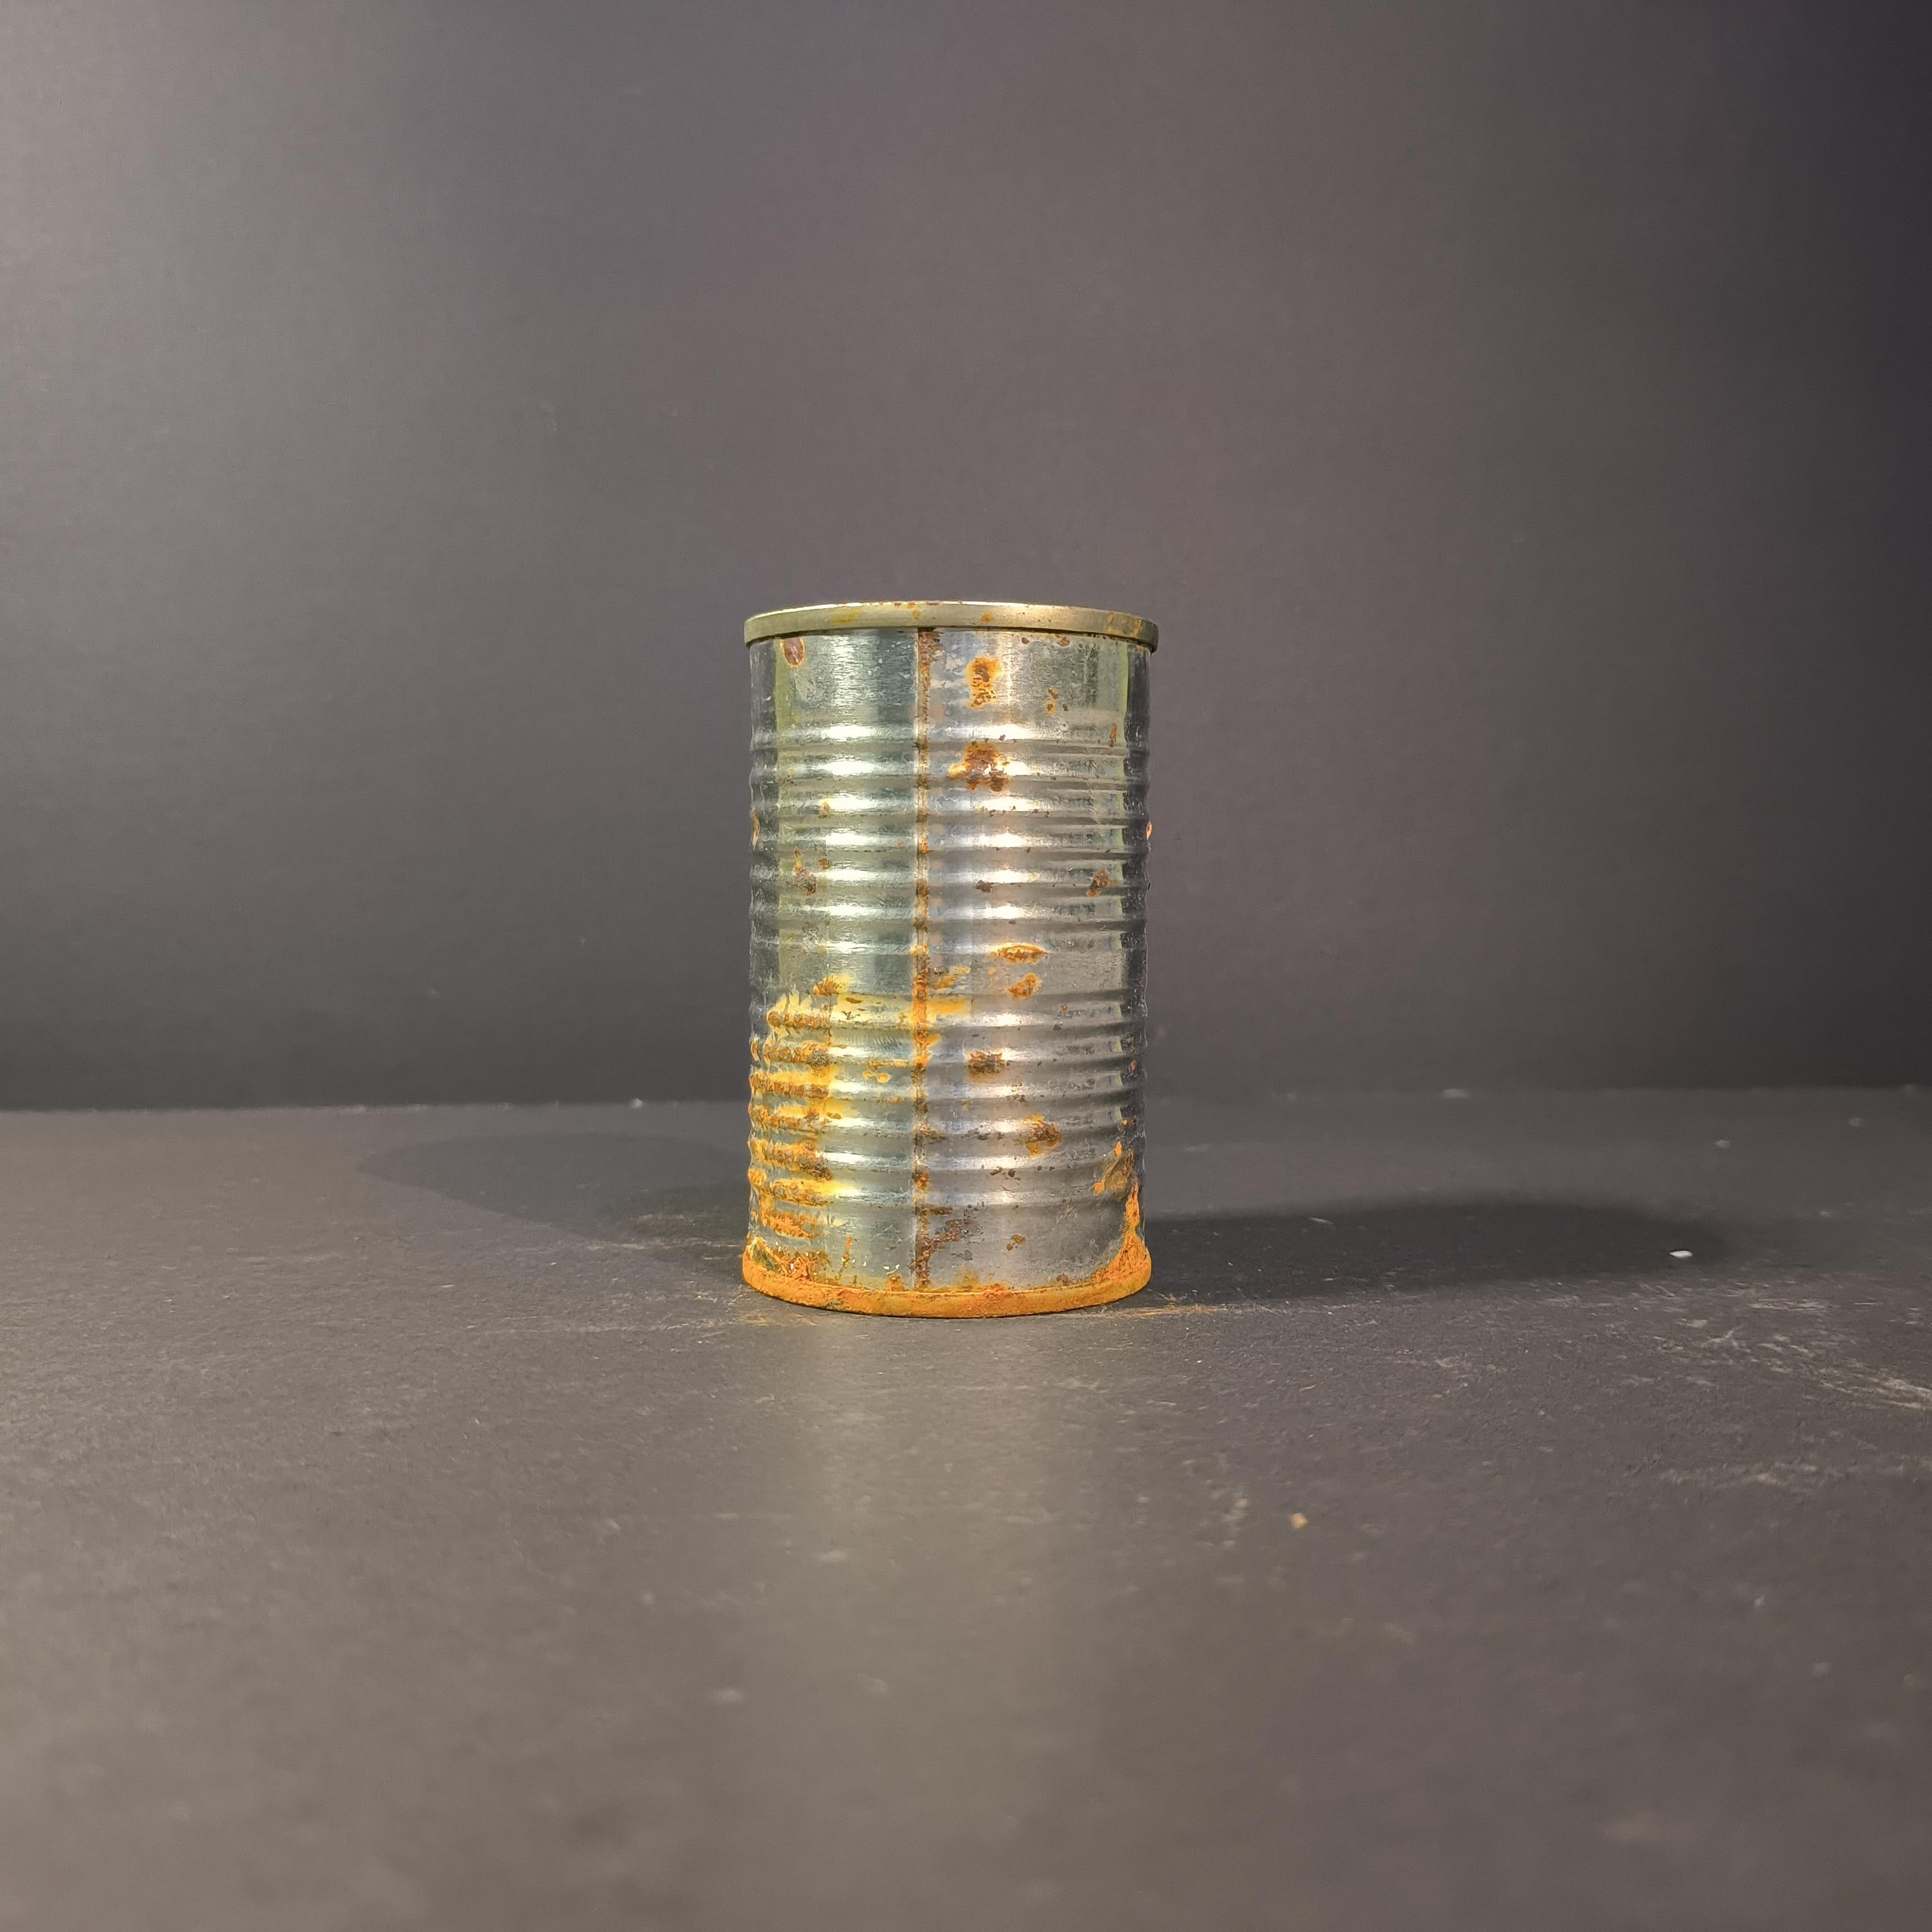Rusted: (720, 587, 1161, 1341)
